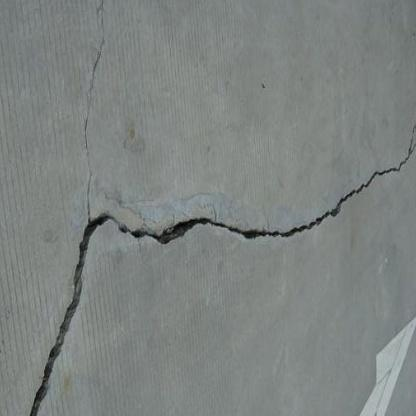Cracks: (20, 89, 416, 416), (82, 109, 95, 156), (89, 50, 106, 80)
